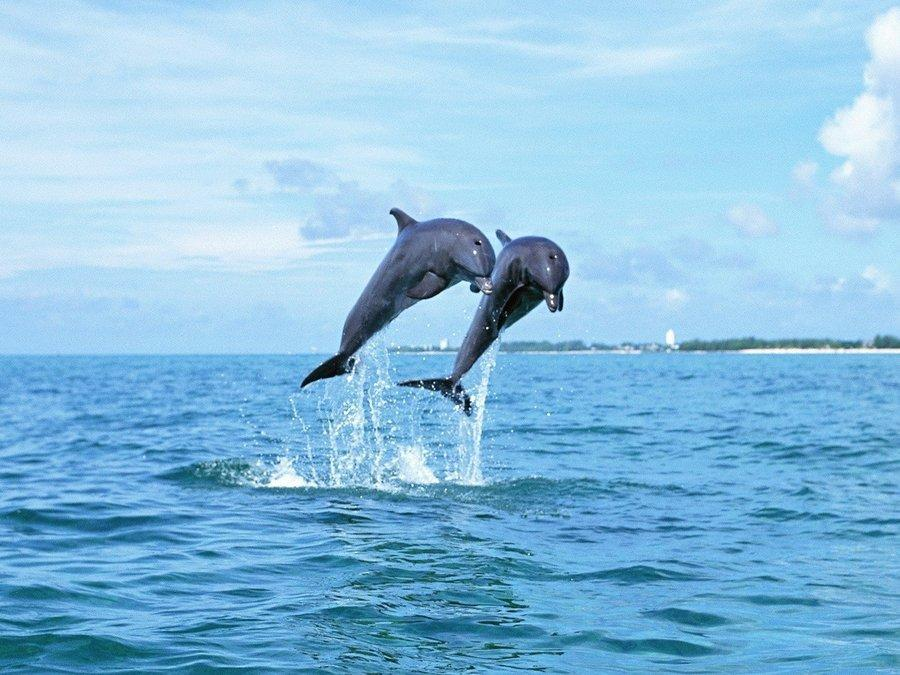fish: (299, 201, 495, 389), (399, 230, 571, 416)
